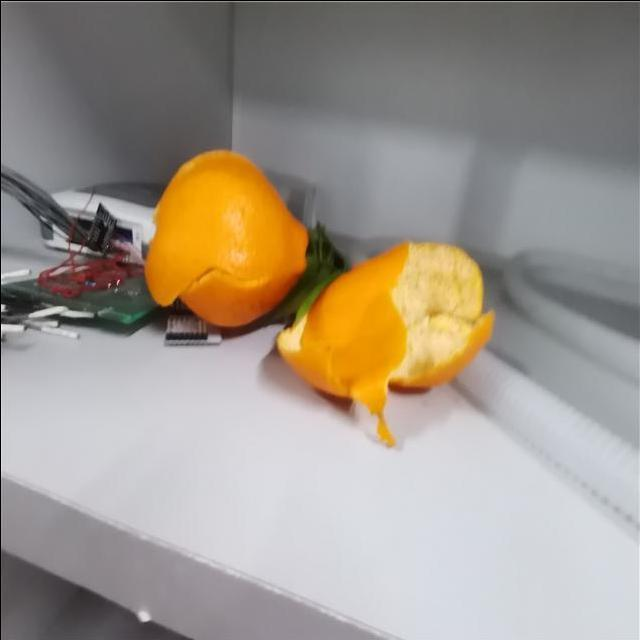orange peel: (271, 240, 496, 440), (146, 144, 310, 332)
